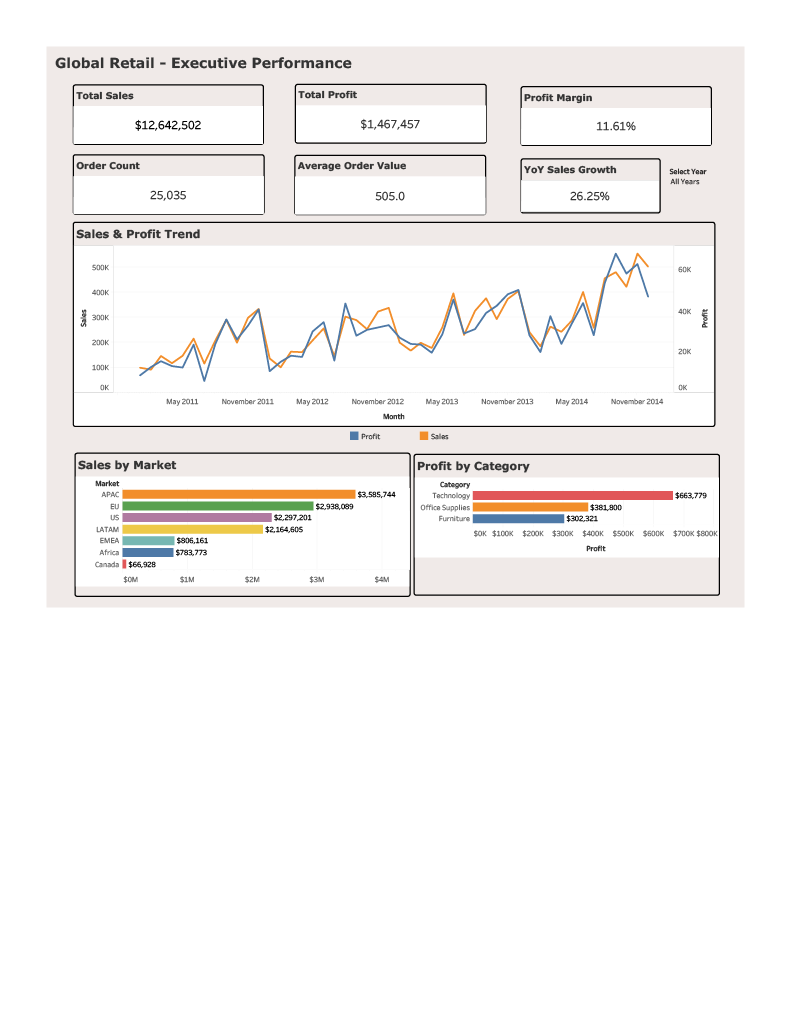

Layout of this report page (visuals, bound fields, positions):
{"tool":"tableau","page":{"name":"Global Retail - Executive Performance","canvas":[1000,1000],"units":"permille","ordinal":1},"visuals":[{"type":"title","box":[4.7,10.6,990.6,51.7]},{"type":"worksheet","title":"Total Profit","mark":"Automatic","box":[355.9,66.2,274.6,107.3]},{"type":"worksheet","title":"Total Sales","mark":"Automatic","box":[37.7,67.5,274,107.3]},{"type":"worksheet","title":"Profit Margin","mark":"Automatic","box":[679.4,70.2,274,107.3]},{"type":"worksheet","title":"Order Count","mark":"Automatic","box":[37.7,192.1,274.6,107.3]},{"type":"worksheet","title":"Average Order Value","mark":"Automatic","box":[355.3,193.4,274.6,107.3]},{"type":"worksheet","title":"YoY Sales Growth","mark":"Automatic","rows":["Order Date"],"box":[679.4,198.7,200.3,99.3]},{"type":"parameter","param":"[Parameters].[Parameter 0001164216868864]","box":[892.8,211.9,91.3,55.6]},{"type":"worksheet","title":"Sales & Profit Trend","mark":"Automatic","rows":["Sales","Profit"],"cols":["Order Date"],"box":[37.1,312.6,921,365.6]},{"type":"legend","title":"Sales & Profit Trend","param":"[federated.1czodah1cvxrqu1f7vqc61xwy50v].[:Measure Names]","box":[432.5,683.4,235.7,51.7]},{"type":"worksheet","title":"Sales by Market","mark":"Automatic","rows":["Market"],"cols":["Sales"],"box":[40,723.6,482,257.3]},{"type":"worksheet","title":"Profit by Category","mark":"Automatic","rows":["Category"],"cols":["Profit"],"box":[526,726.4,439,252.7]}]}

Visuals, with their boxes on the dashboard's canvas, which has no fixed pixel size, in thousandths of its width and height (x1, y1, x2, y2). These are canvas units, not pixel positions in the 791x1024 screenshot, which may show the page scaled, cropped or inside an application window:
title: <bbox>5, 11, 995, 62</bbox>
"Total Profit" worksheet: <bbox>356, 66, 630, 174</bbox>
"Total Sales" worksheet: <bbox>38, 68, 312, 175</bbox>
"Profit Margin" worksheet: <bbox>679, 70, 953, 178</bbox>
"Order Count" worksheet: <bbox>38, 192, 312, 299</bbox>
"Average Order Value" worksheet: <bbox>355, 193, 630, 301</bbox>
"YoY Sales Growth" worksheet: <bbox>679, 199, 880, 298</bbox>
parameter: <bbox>893, 212, 984, 268</bbox>
"Sales & Profit Trend" worksheet: <bbox>37, 313, 958, 678</bbox>
"Sales & Profit Trend" legend: <bbox>432, 683, 668, 735</bbox>
"Sales by Market" worksheet: <bbox>40, 724, 522, 981</bbox>
"Profit by Category" worksheet: <bbox>526, 726, 965, 979</bbox>
